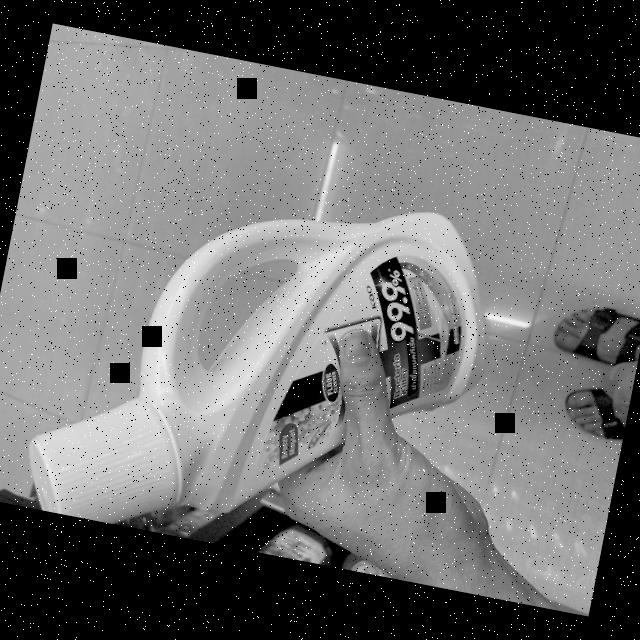chemical_plastic_gallon: (14, 132, 519, 588)
